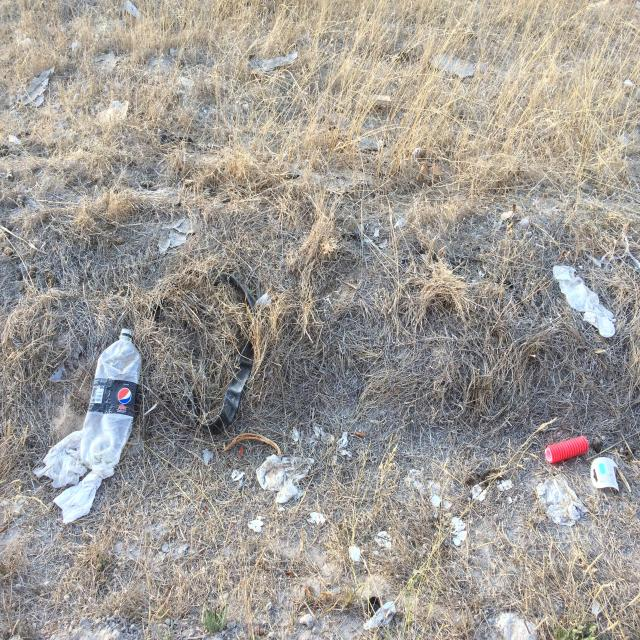litter: (181, 270, 258, 434), (33, 417, 134, 526), (80, 329, 141, 467), (535, 472, 588, 526), (256, 454, 314, 502), (545, 435, 588, 464), (590, 456, 620, 492), (451, 516, 468, 545)
